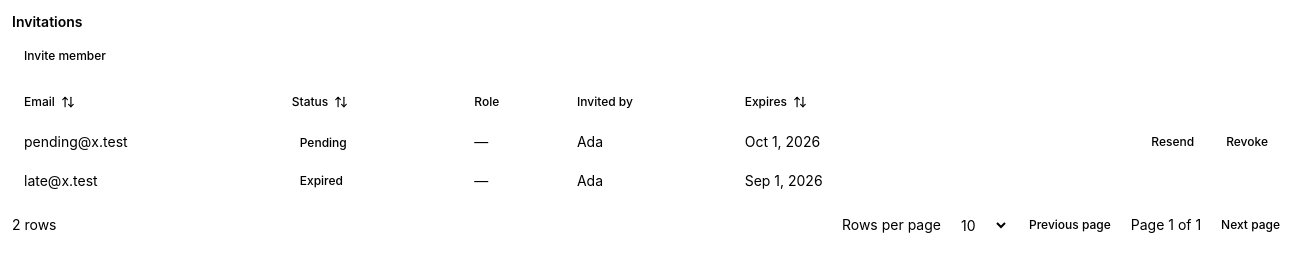
it: Resend and revoke: refusals are named, a gone row reloads, a dropped connection shows (F-156) › revoke over the rate limit says to slow down
This screenshot has width=1304, height=278.
Expected: the text "pending@x.test" is shown, [12,120,280,164]
What coordinates should you click on to do the following:
click the button "Revoke"
I would click on:
 (1247, 142)
Its box is [1214,126,1280,158].
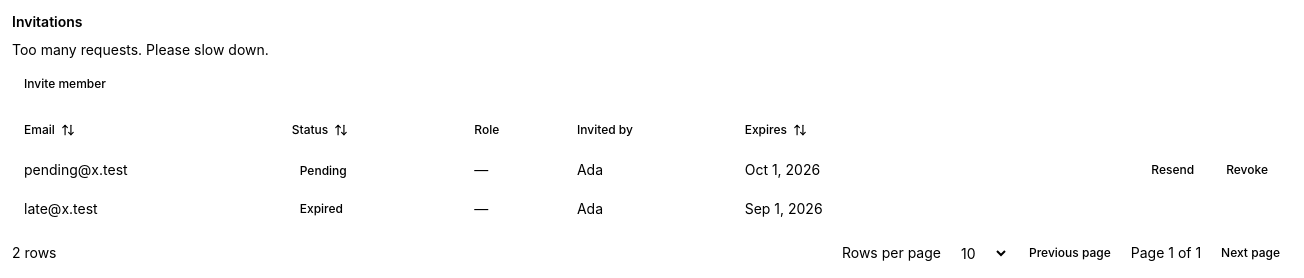
Now the message reads "Too many requests. Please slow down.", box [12,41,269,58]
